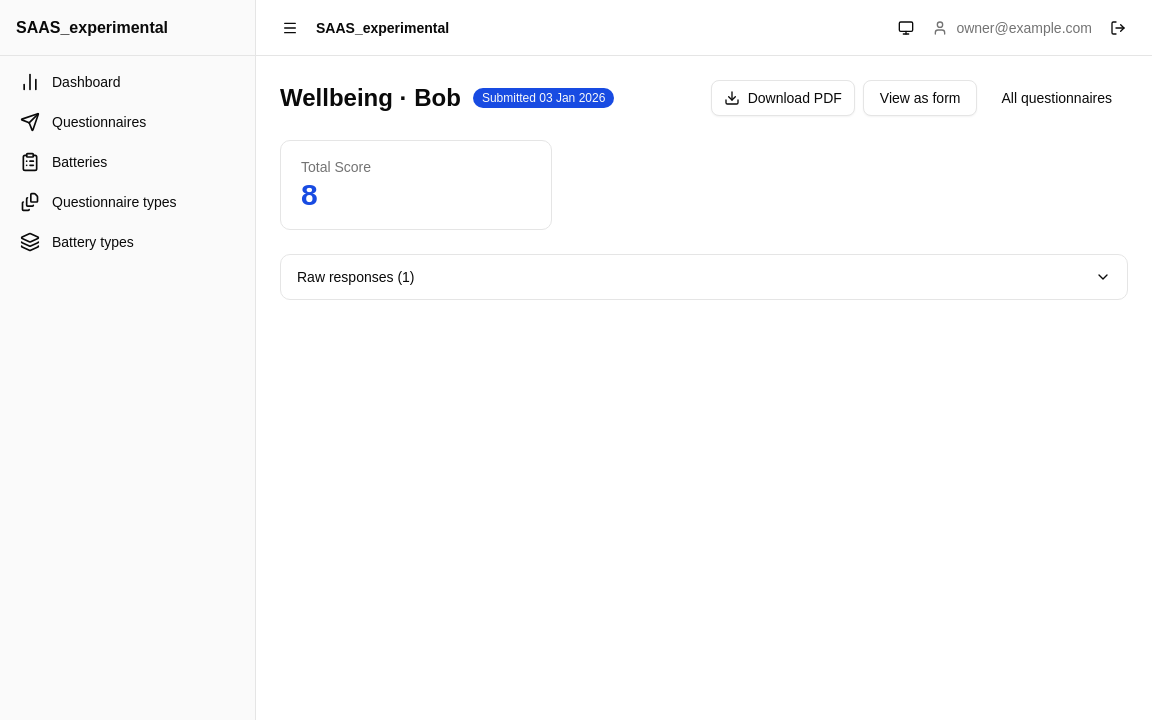
Test case: /questionnaires/$id/results › Download PDF › shows an error when the PDF fails
The width and height of the screenshot is (1152, 720).
What coordinates should you click on to do the following:
click the button "Download PDF"
I would click on:
 (783, 98)
Its box is [711,80,855,116].
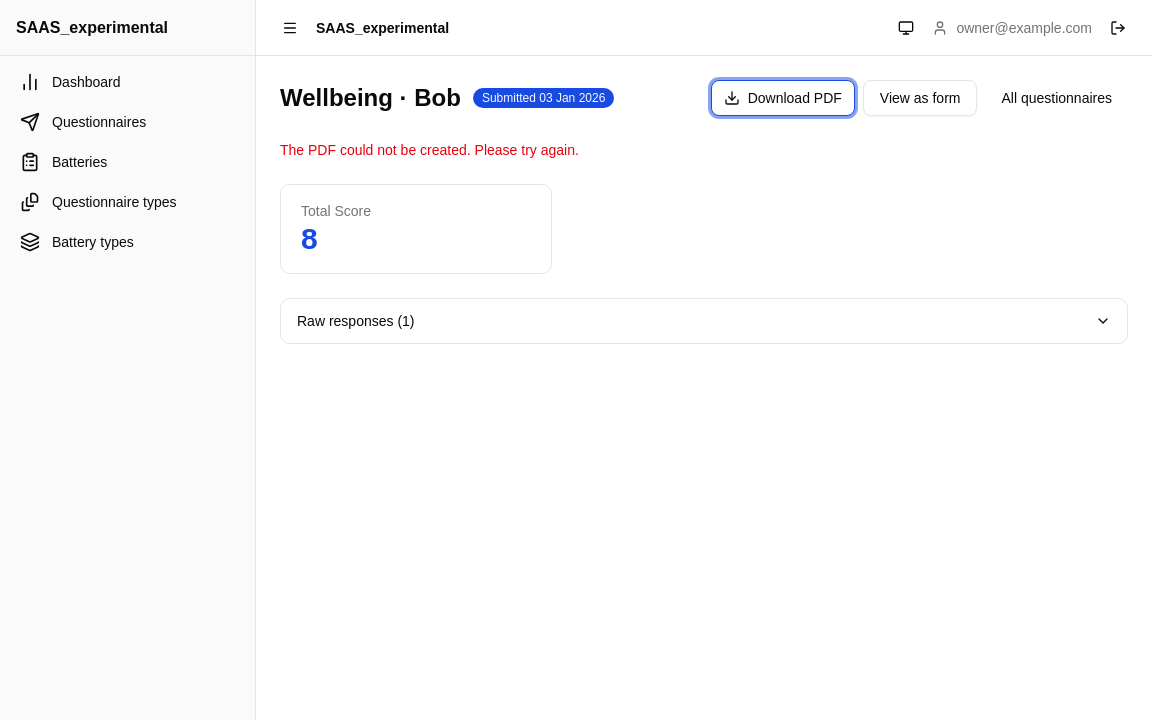
Check: the message shows "could not be created", box [280,142,579,158]
